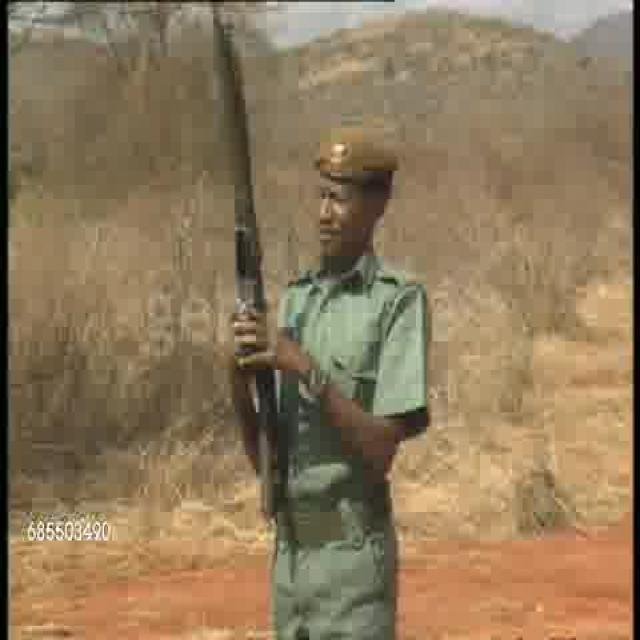ranger: (228, 96, 473, 611)
weapon: (167, 0, 271, 526)
